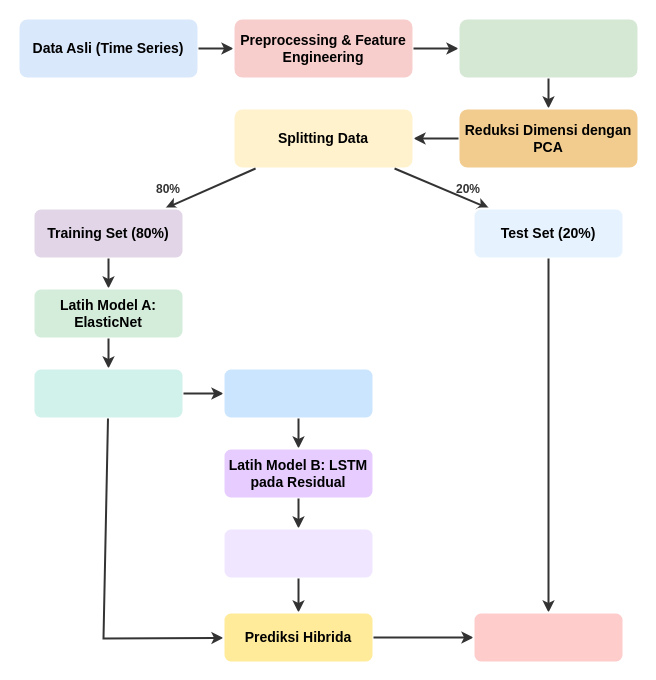
The diagram is 656 pixels wide and 680 high, and some of its shapes have lost their labels. Here are the shapes that lost their labels. From the top down, the centre of each, then its label:
point (548, 48): Pemisahan Fitur & Scaling
point (108, 393): Prediksi ElasticNet
point (298, 393): Hitung Residual
point (298, 553): Prediksi Residual
point (548, 637): Evaluasi Model pada Test Set
